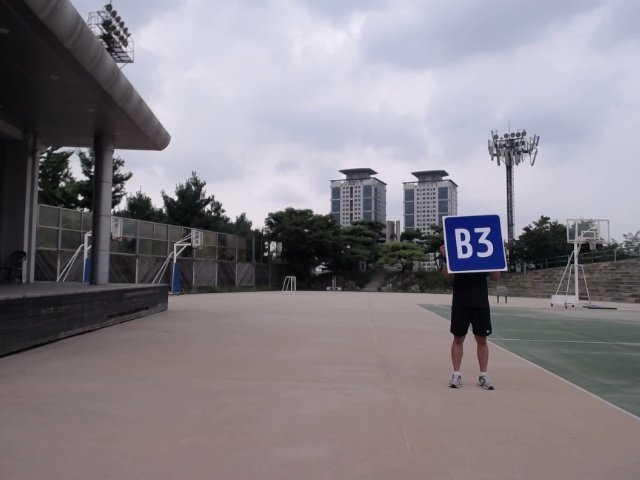delivery_b3: (442, 214, 508, 274)
